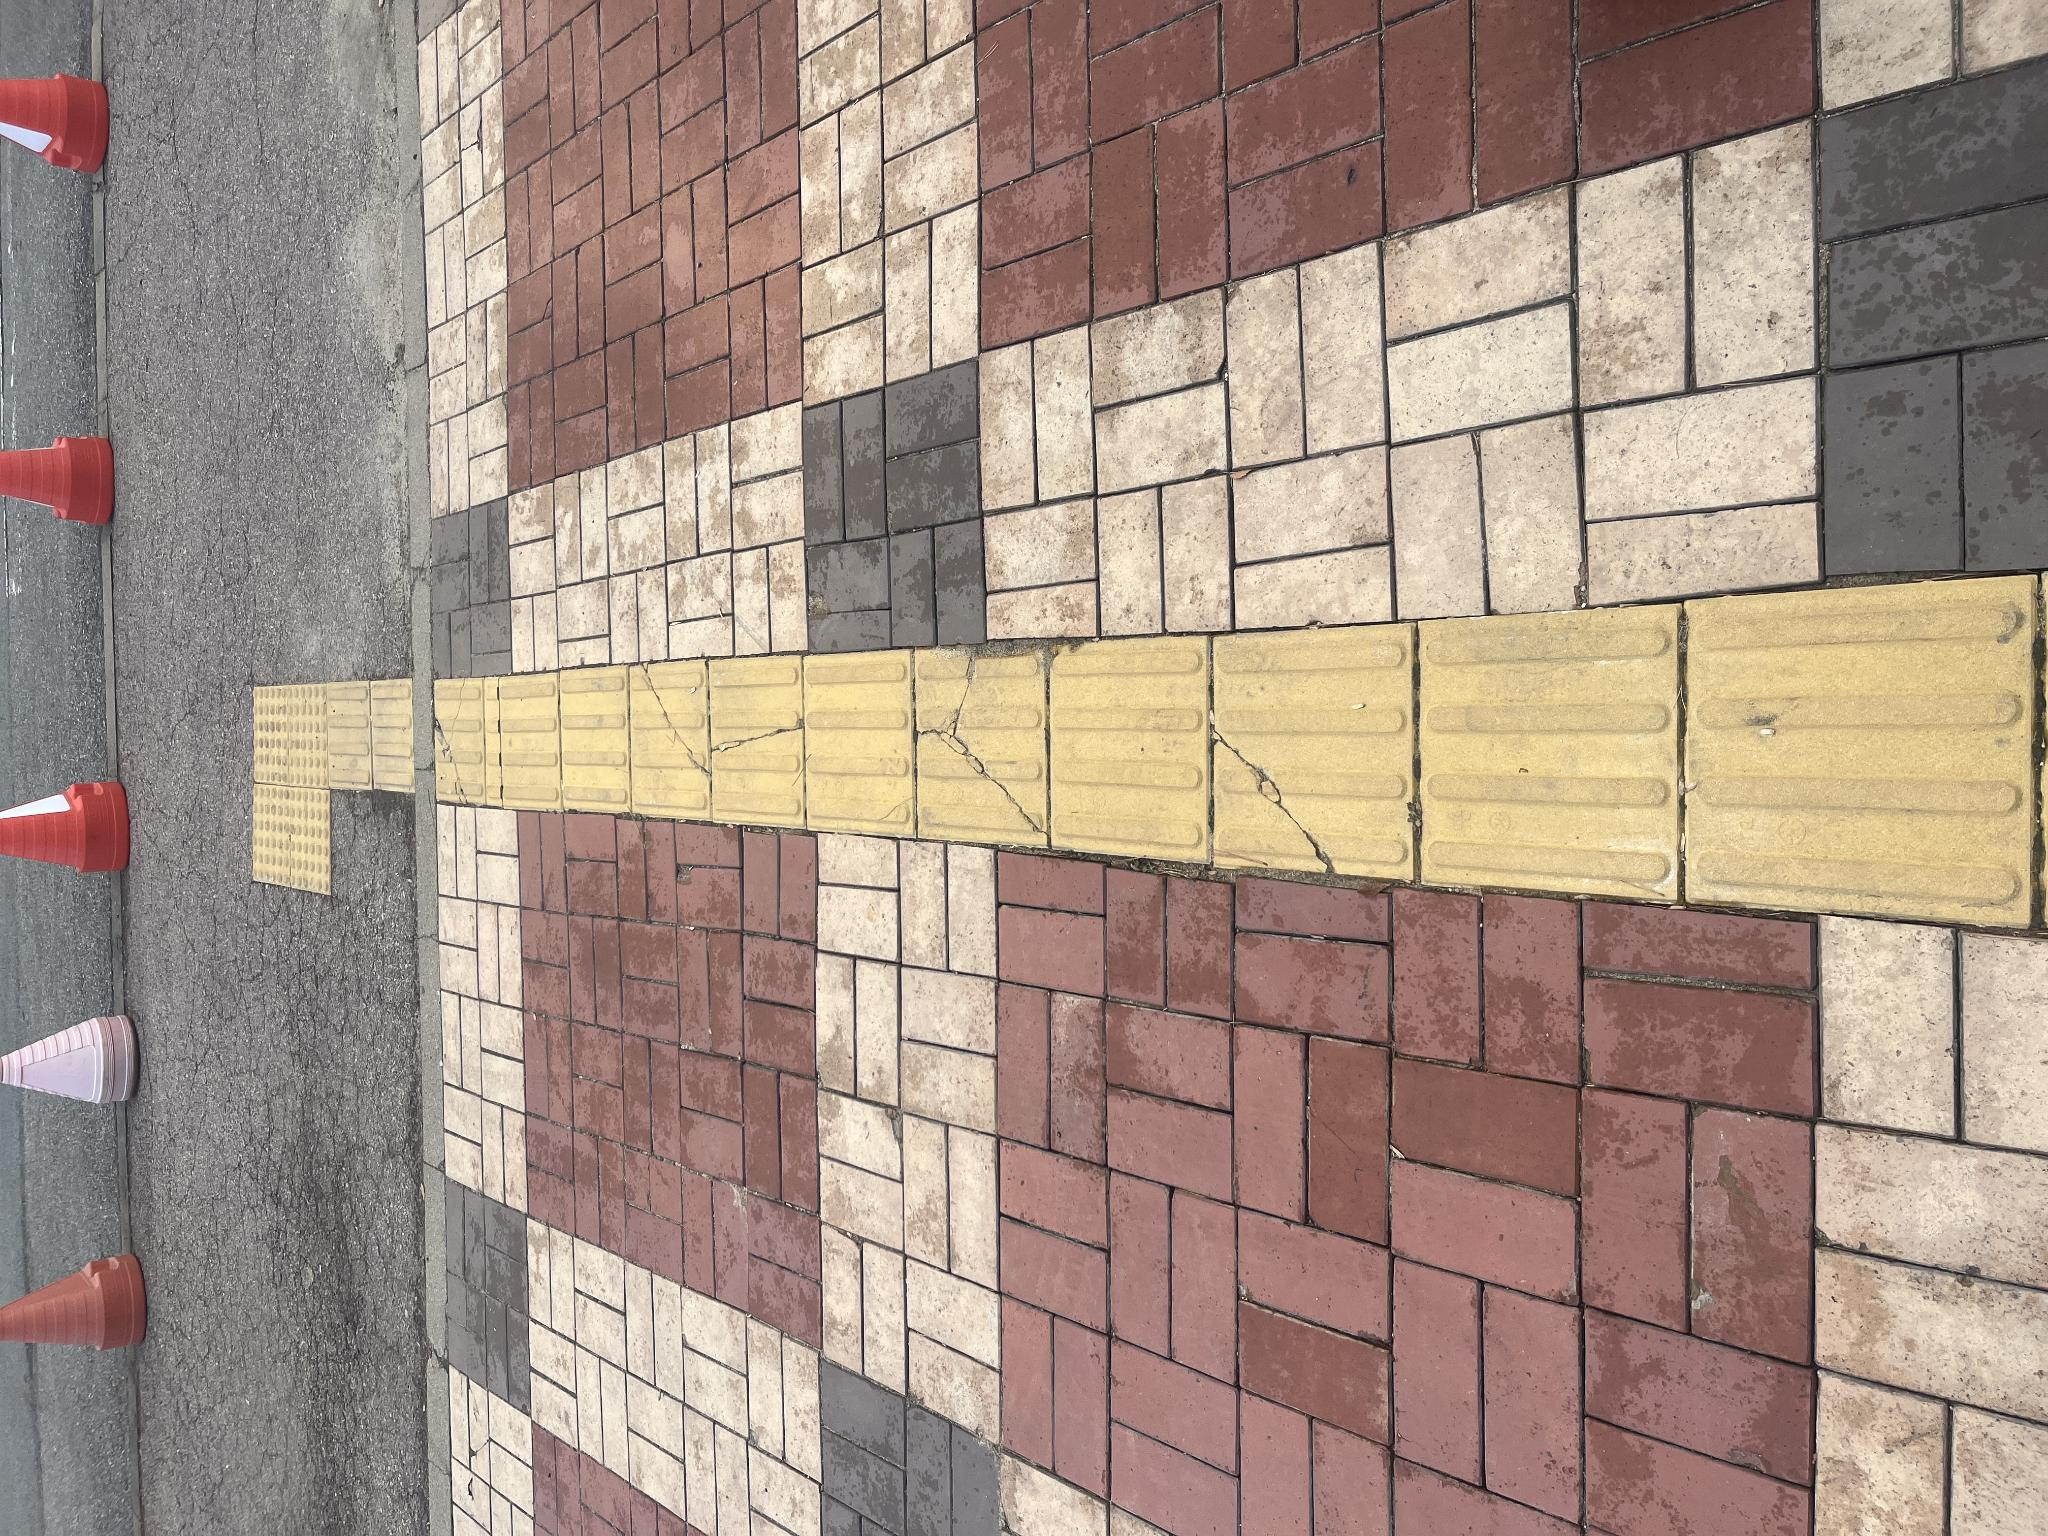Straight block broken: (660, 1215, 911, 1412), (689, 915, 893, 1049), (710, 710, 880, 805), (716, 629, 876, 712), (732, 436, 856, 484)
Straight block normal: (674, 1049, 900, 1204), (651, 1425, 914, 1536), (706, 807, 880, 913), (726, 565, 868, 628)
